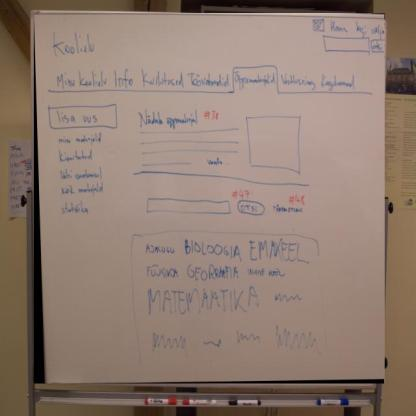Handwritten text: (44, 65, 366, 97), (132, 232, 311, 263), (132, 285, 272, 319), (136, 261, 287, 286), (135, 104, 209, 141), (49, 27, 108, 59), (48, 130, 111, 149), (50, 108, 110, 125), (50, 146, 100, 164), (59, 197, 95, 219), (56, 184, 111, 198), (54, 169, 105, 181)
Whiteboard: (25, 7, 390, 384)
